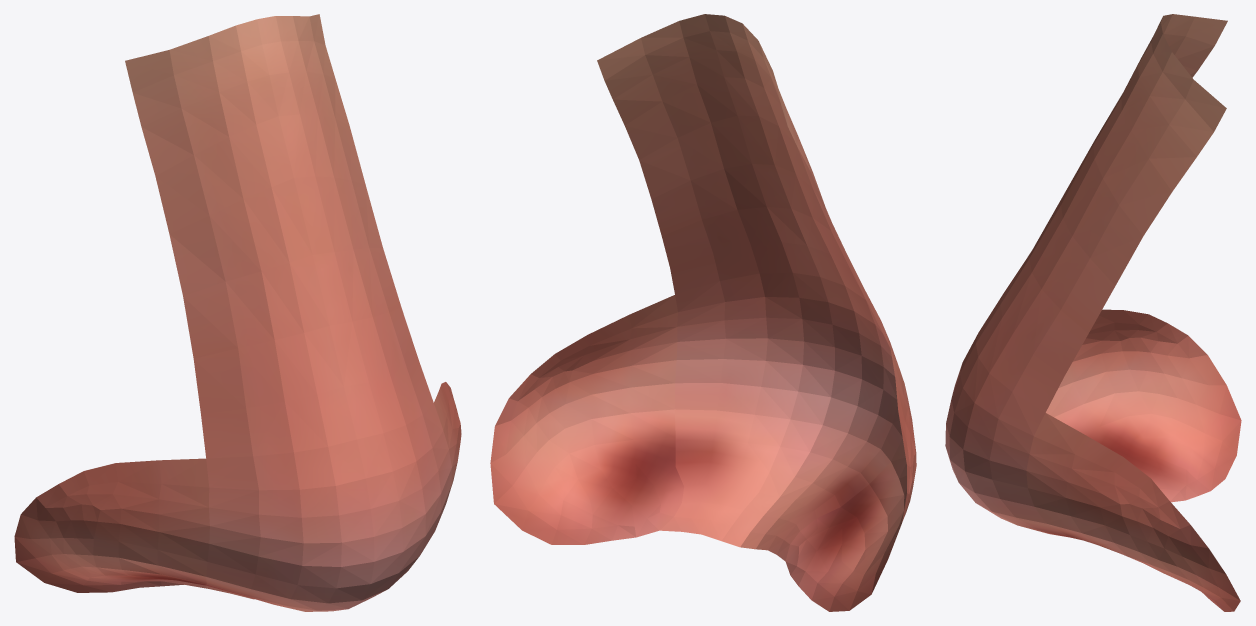
Rendered from euro-fem-nose-region-concave.obj.
3 renders of one model, left to right at view 1: azimuth 30°, elevation 25°; view 2: azimuth 150°, elevation 25°; view 3: azimuth 270°, elevation 25°, orthographic. The views are drawn at different scales.
Parts seen in each view (by area): view 1: euro-fem-nose-region-concave.001; view 2: euro-fem-nose-region-concave.001; view 3: euro-fem-nose-region-concave.001.
Boxes of the visible parts, x1=… form: euro-fem-nose-region-concave.001: x1=14, y1=14, x2=461, y2=611; euro-fem-nose-region-concave.001: x1=490, y1=14, x2=916, y2=611; euro-fem-nose-region-concave.001: x1=945, y1=14, x2=1241, y2=611.
Size of the model in its own units: 0.1849 by 0.236 by 0.1203.
1 material, 1 textured.
